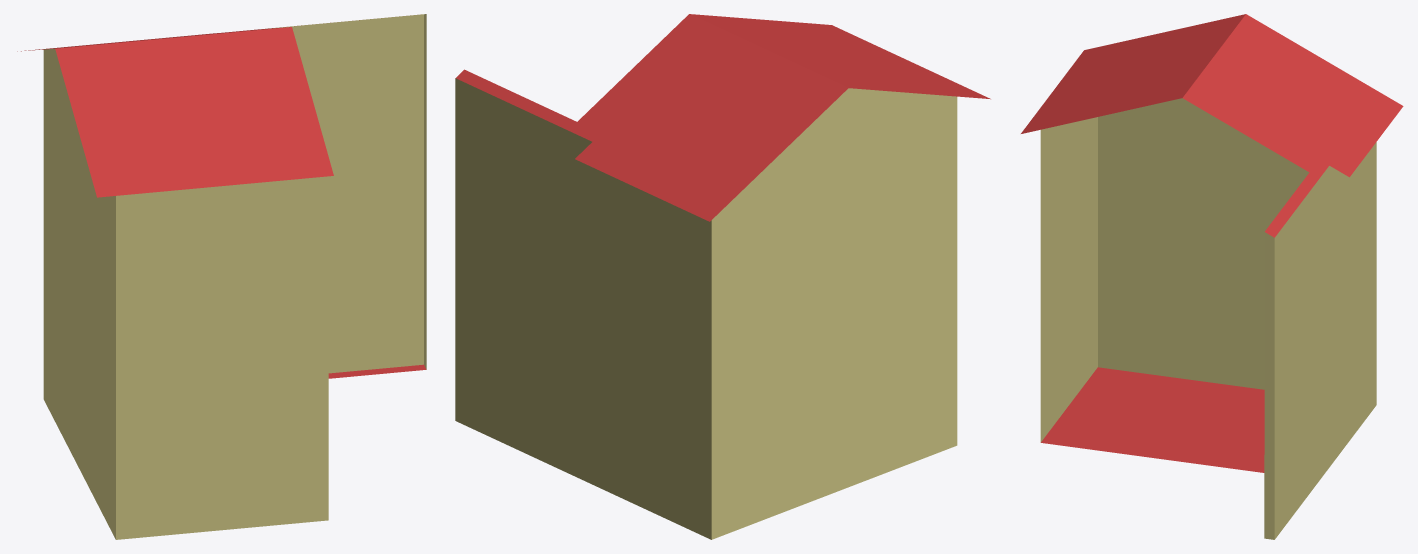
The picture shows the model from 3 angles, left to right: view 1: azimuth 30°, elevation 25°; view 2: azimuth 150°, elevation 25°; view 3: azimuth 270°, elevation 25°; orthographic projection. The views are drawn at different scales.
Bounding box in the file's own units: 10.23 × 9 × 9.43.
